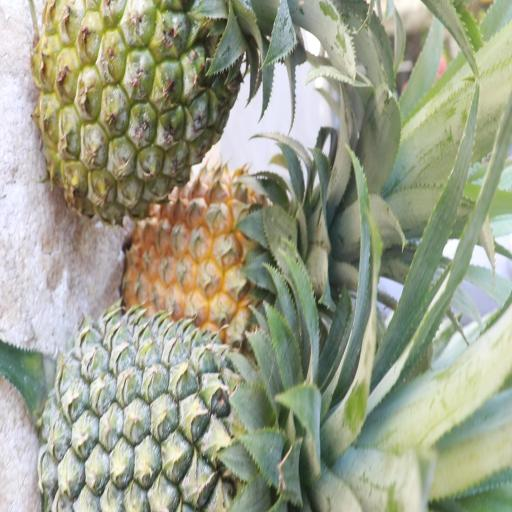------------------------------: (34, 0, 253, 219)
Pineapple - v8 v1: (120, 168, 296, 334)
